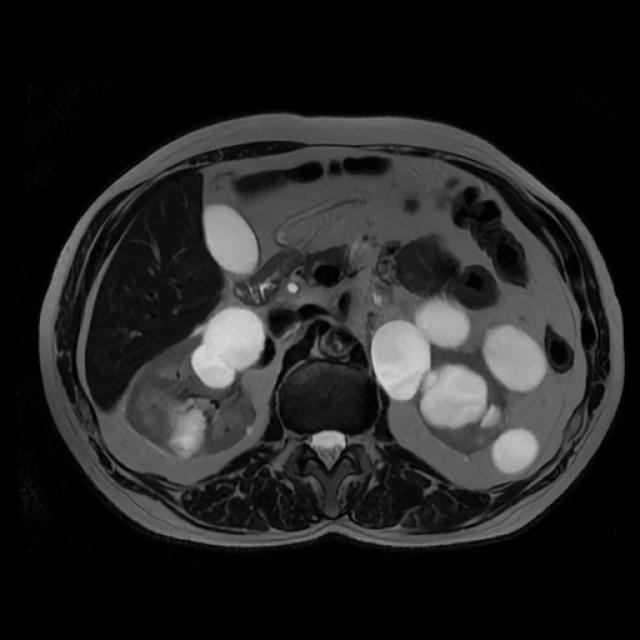sag: (128, 308, 268, 461)
sol: (376, 296, 548, 472)
